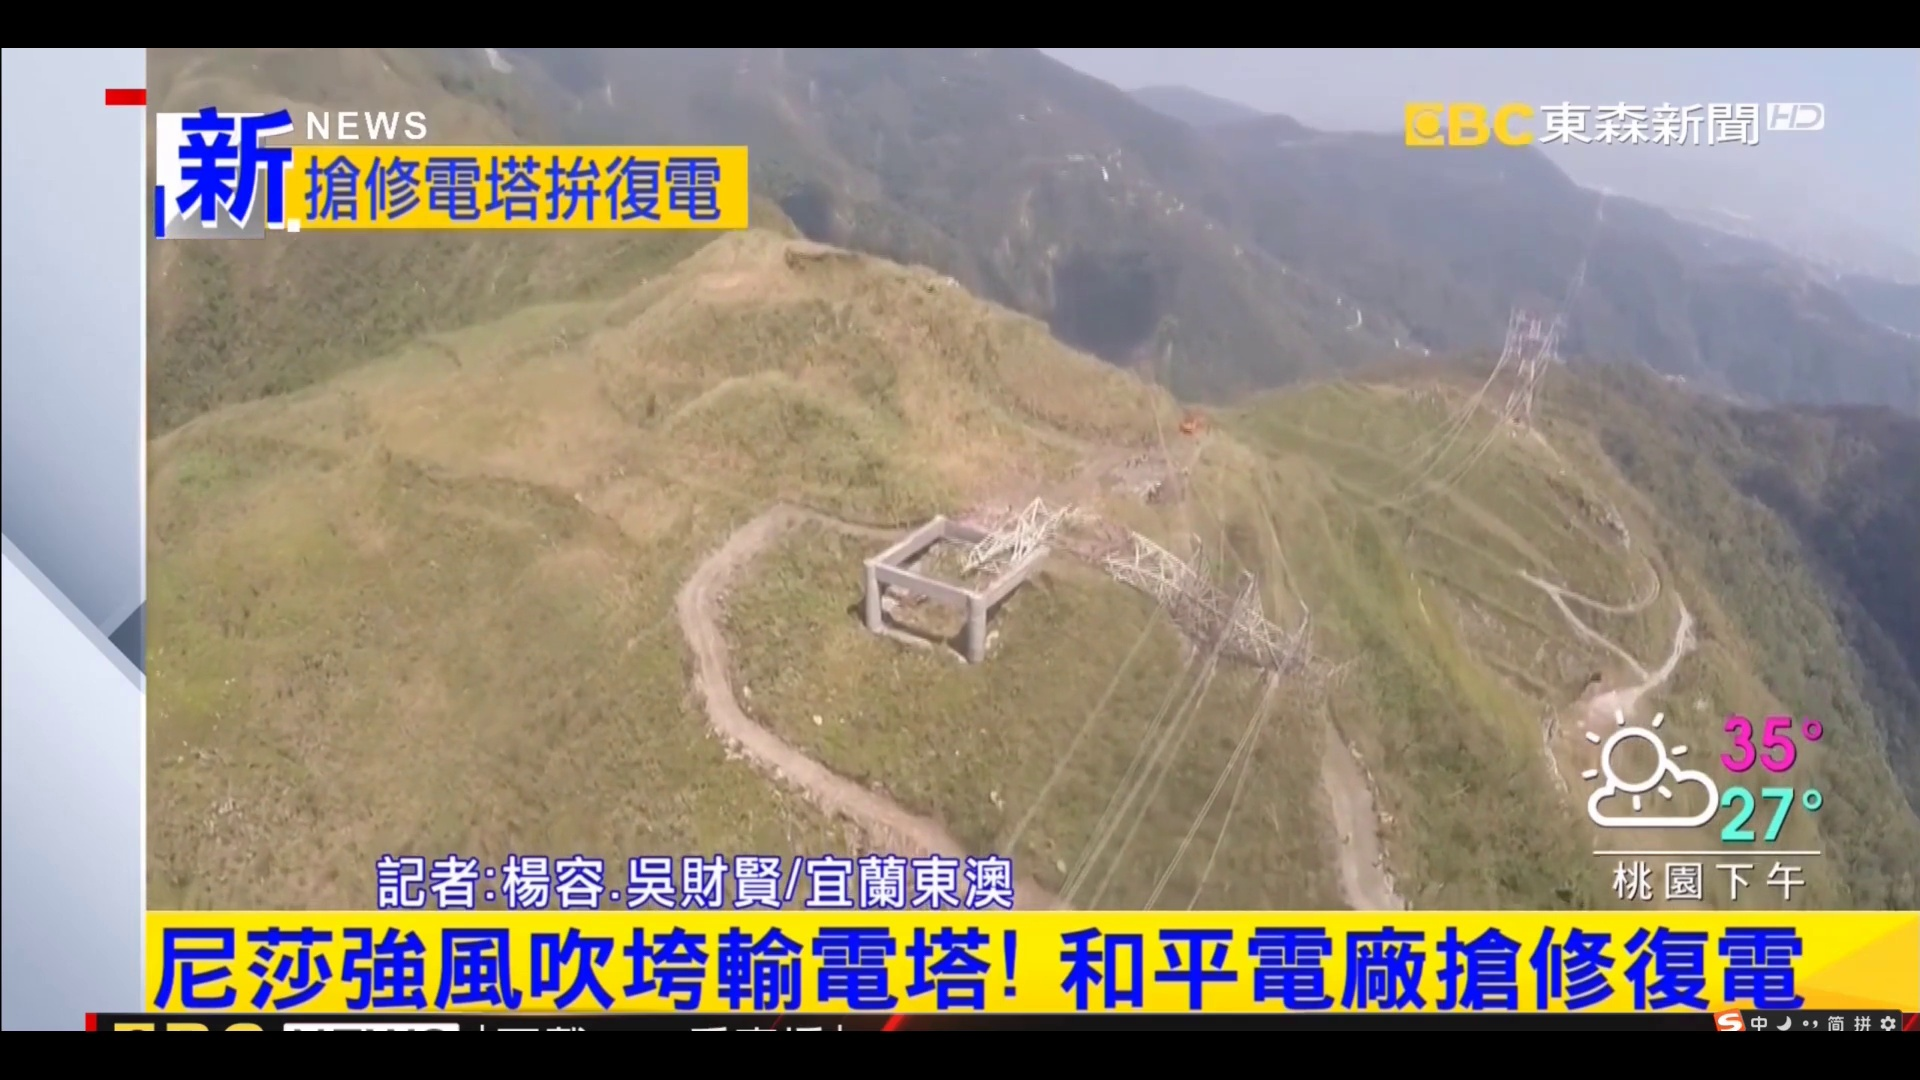tower_down: (1019, 498, 1349, 679)
